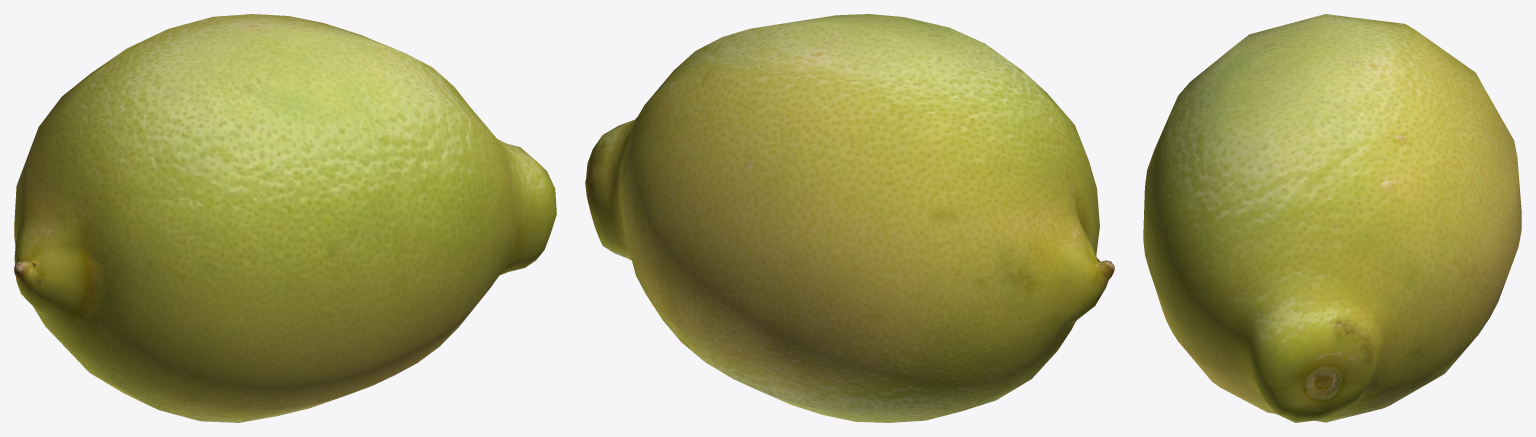
File: reallemon.glb
3 renders of one model, left to right at view 1: azimuth 30°, elevation 25°; view 2: azimuth 150°, elevation 25°; view 3: azimuth 270°, elevation 25°, orthographic. The views are drawn at different scales.
Visible parts, largest first — view 1: Lemon; view 2: Lemon; view 3: Lemon.
Part boxes in pixels (x1,y1,x2,y2): Lemon: [14, 14, 556, 422]; Lemon: [585, 14, 1114, 422]; Lemon: [1143, 14, 1521, 422].
Size of the model in its own units: 0.1207 by 0.08 by 0.0806.
1 material, 1 textured.
